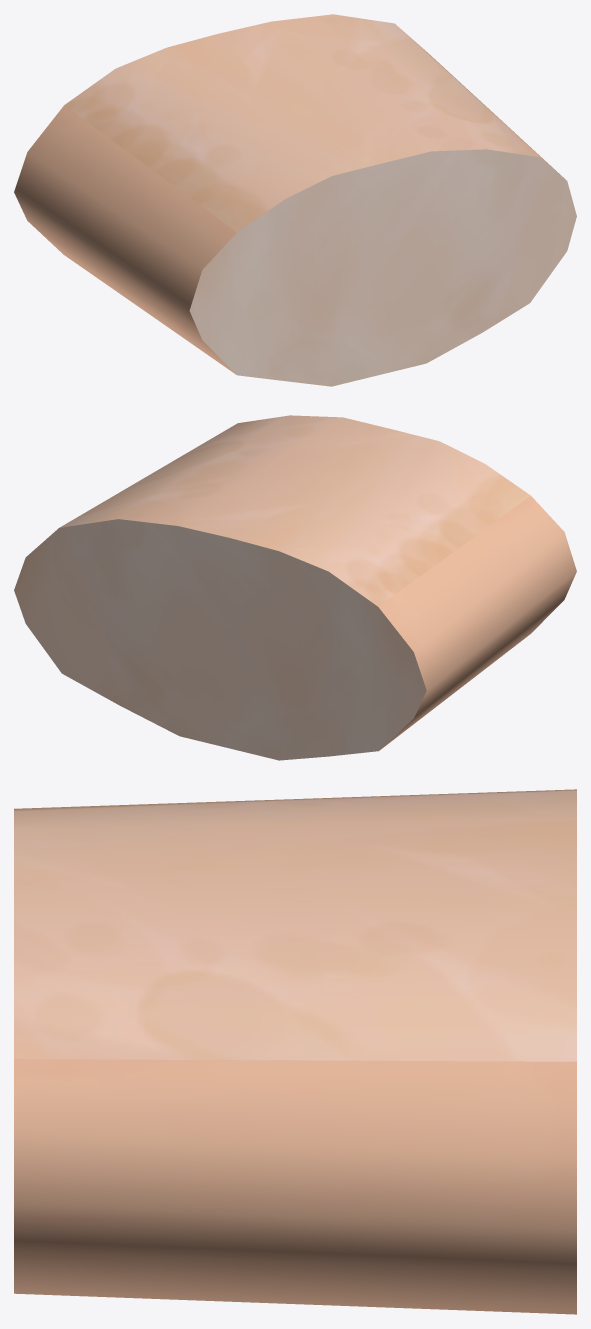
File: chicken_breast_04.fbx
3 renders of one model, top to bottom at view 1: azimuth 30°, elevation 25°; view 2: azimuth 150°, elevation 25°; view 3: azimuth 270°, elevation 25°, orthographic. The views are drawn at different scales.
Parts seen in each view (by area): view 1: chicken_breast_04; view 2: chicken_breast_04; view 3: chicken_breast_04.
Part boxes in pixels (x1,y1,x2,y2): chicken_breast_04: (14,14,576,386); chicken_breast_04: (14,415,576,760); chicken_breast_04: (14,789,576,1314).
Bounding box in the file's own units: 5.48 × 2.68 × 3.67.
